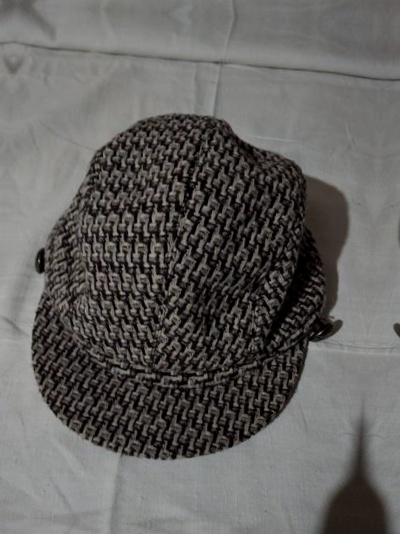Hat: (3, 103, 364, 469), (377, 127, 400, 493)
